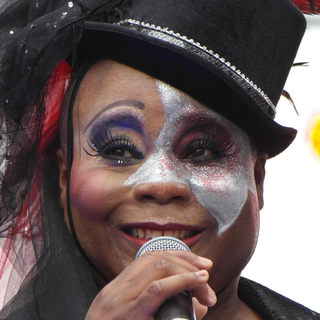eye: (88, 134, 146, 165), (176, 135, 224, 168)
